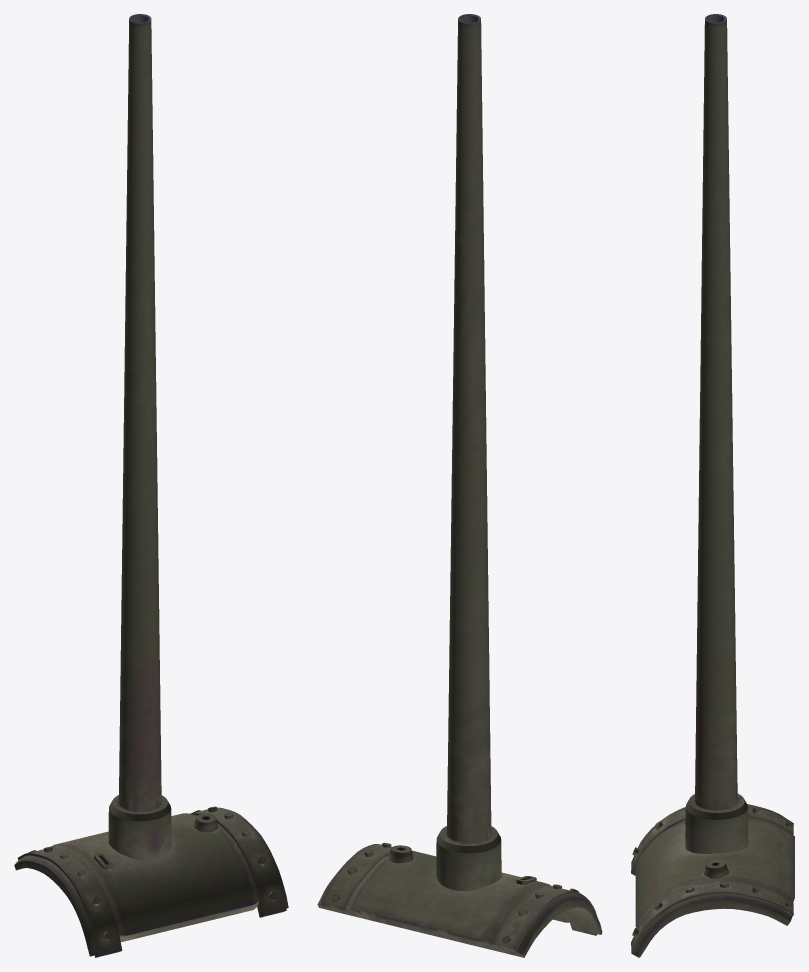
The model's file is Gun_08.glb.
The picture shows the model from 3 angles, left to right: view 1: azimuth 30°, elevation 25°; view 2: azimuth 150°, elevation 25°; view 3: azimuth 270°, elevation 25°; orthographic projection. The views are drawn at different scales.
Parts seen in each view (by area): view 1: set_0_group_0; view 2: set_0_group_0; view 3: set_0_group_0.
Part boxes in pixels (x1,y1,x2,y2): set_0_group_0: [14, 14, 288, 957]; set_0_group_0: [317, 14, 602, 957]; set_0_group_0: [631, 14, 794, 957].
Bounding box in the file's own units: 0.5861 × 2.52 × 0.4212.
Materials: 1 (1 with a texture image).
